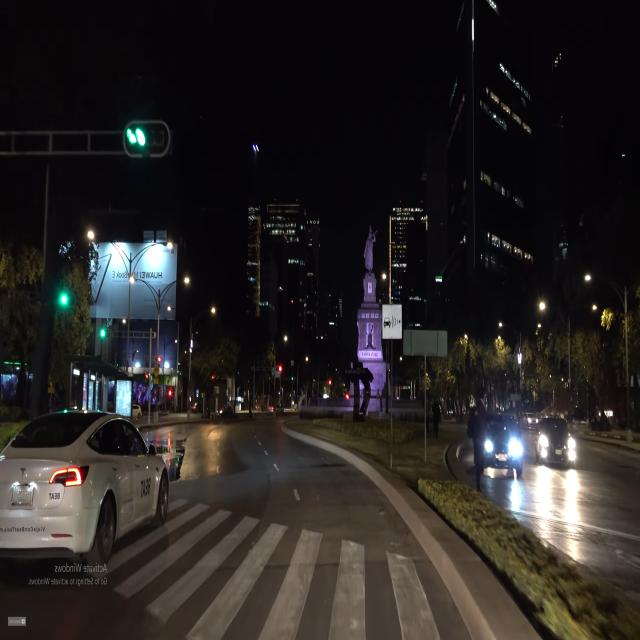headlights: (480, 431, 524, 468), (538, 433, 580, 465)
